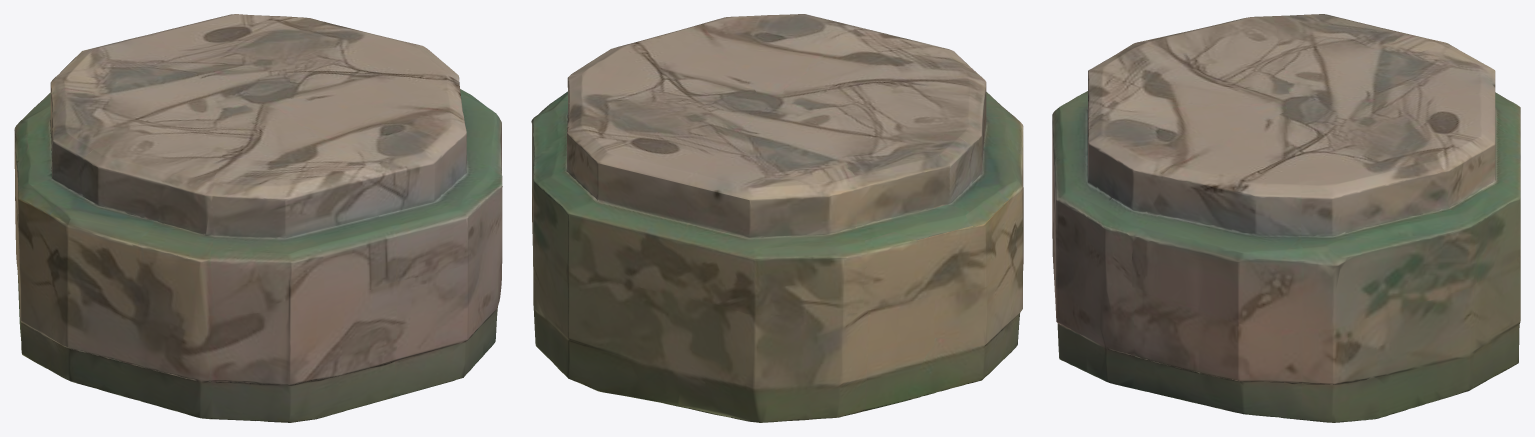
Rendered from pedestal.glb.
The picture shows the model from 3 angles, left to right: view 1: azimuth 30°, elevation 25°; view 2: azimuth 150°, elevation 25°; view 3: azimuth 270°, elevation 25°; orthographic projection.
Visible parts, largest first — view 1: tripo_node_5fcec3fa-c0be-407e-ad2c-f878756c156f; view 2: tripo_node_5fcec3fa-c0be-407e-ad2c-f878756c156f; view 3: tripo_node_5fcec3fa-c0be-407e-ad2c-f878756c156f.
Part boxes in pixels (x1,y1,x2,y2): tripo_node_5fcec3fa-c0be-407e-ad2c-f878756c156f: (14, 14, 502, 422); tripo_node_5fcec3fa-c0be-407e-ad2c-f878756c156f: (531, 14, 1023, 422); tripo_node_5fcec3fa-c0be-407e-ad2c-f878756c156f: (1052, 14, 1520, 422).
Size of the model in its own units: 1.99 by 1 by 1.8.
1 material, 1 textured.
